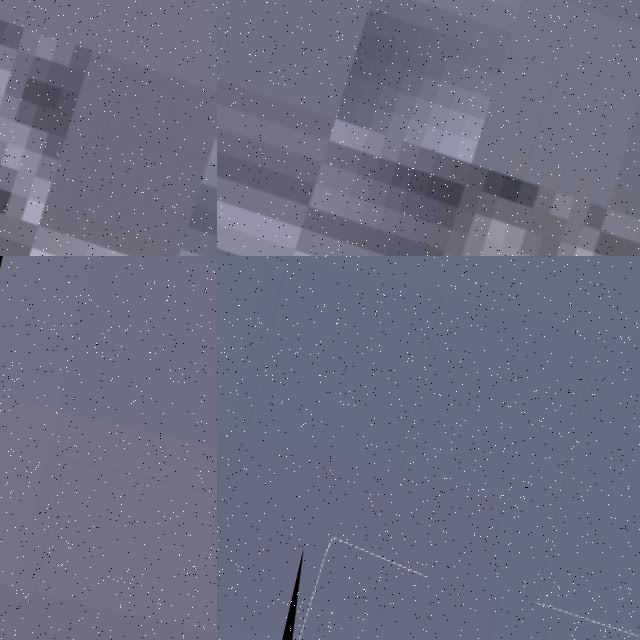drone: (217, 0, 640, 256), (0, 0, 217, 256), (257, 548, 640, 640)
